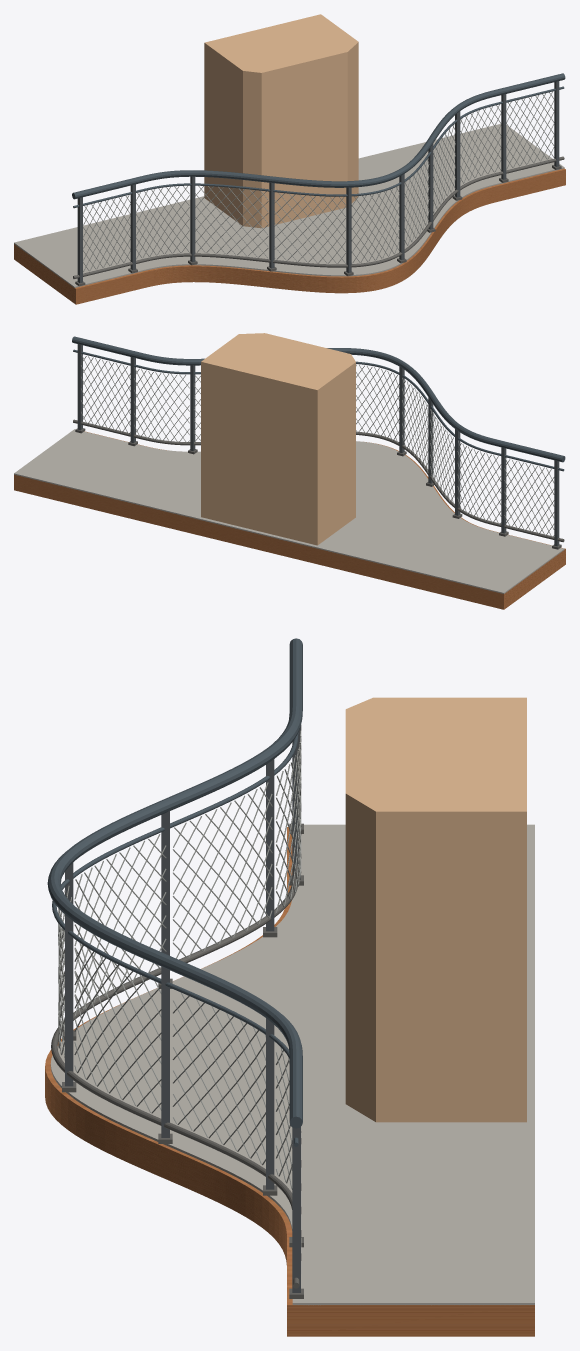
File: xincheng-apartments-curved-court-gallery-near.glb
3 renders of one model, top to bottom at view 1: azimuth 30°, elevation 25°; view 2: azimuth 150°, elevation 25°; view 3: azimuth 270°, elevation 25°, orthographic. The views are drawn at different scales.
Parts seen in each view (by area): view 1: 新成大厦院内弧形外廊与菱格铁栏; view 2: 新成大厦院内弧形外廊与菱格铁栏; view 3: 新成大厦院内弧形外廊与菱格铁栏.
Part boxes in pixels (<box>): 新成大厦院内弧形外廊与菱格铁栏: <box>14,14,565,304</box>; 新成大厦院内弧形外廊与菱格铁栏: <box>14,333,565,609</box>; 新成大厦院内弧形外廊与菱格铁栏: <box>45,638,534,1336</box>.
Size of the model in its own units: 5.8 by 1.95 by 2.51.
Materials: 8 (1 with a texture image).
